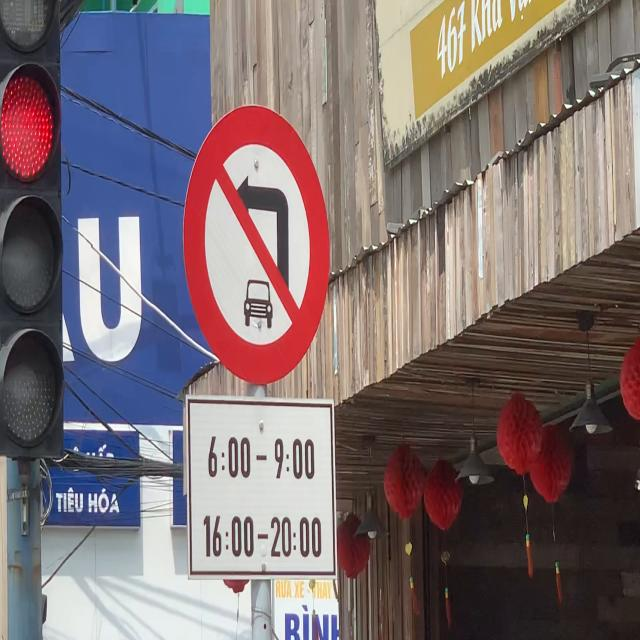Cam re trai: (179, 102, 335, 386)
